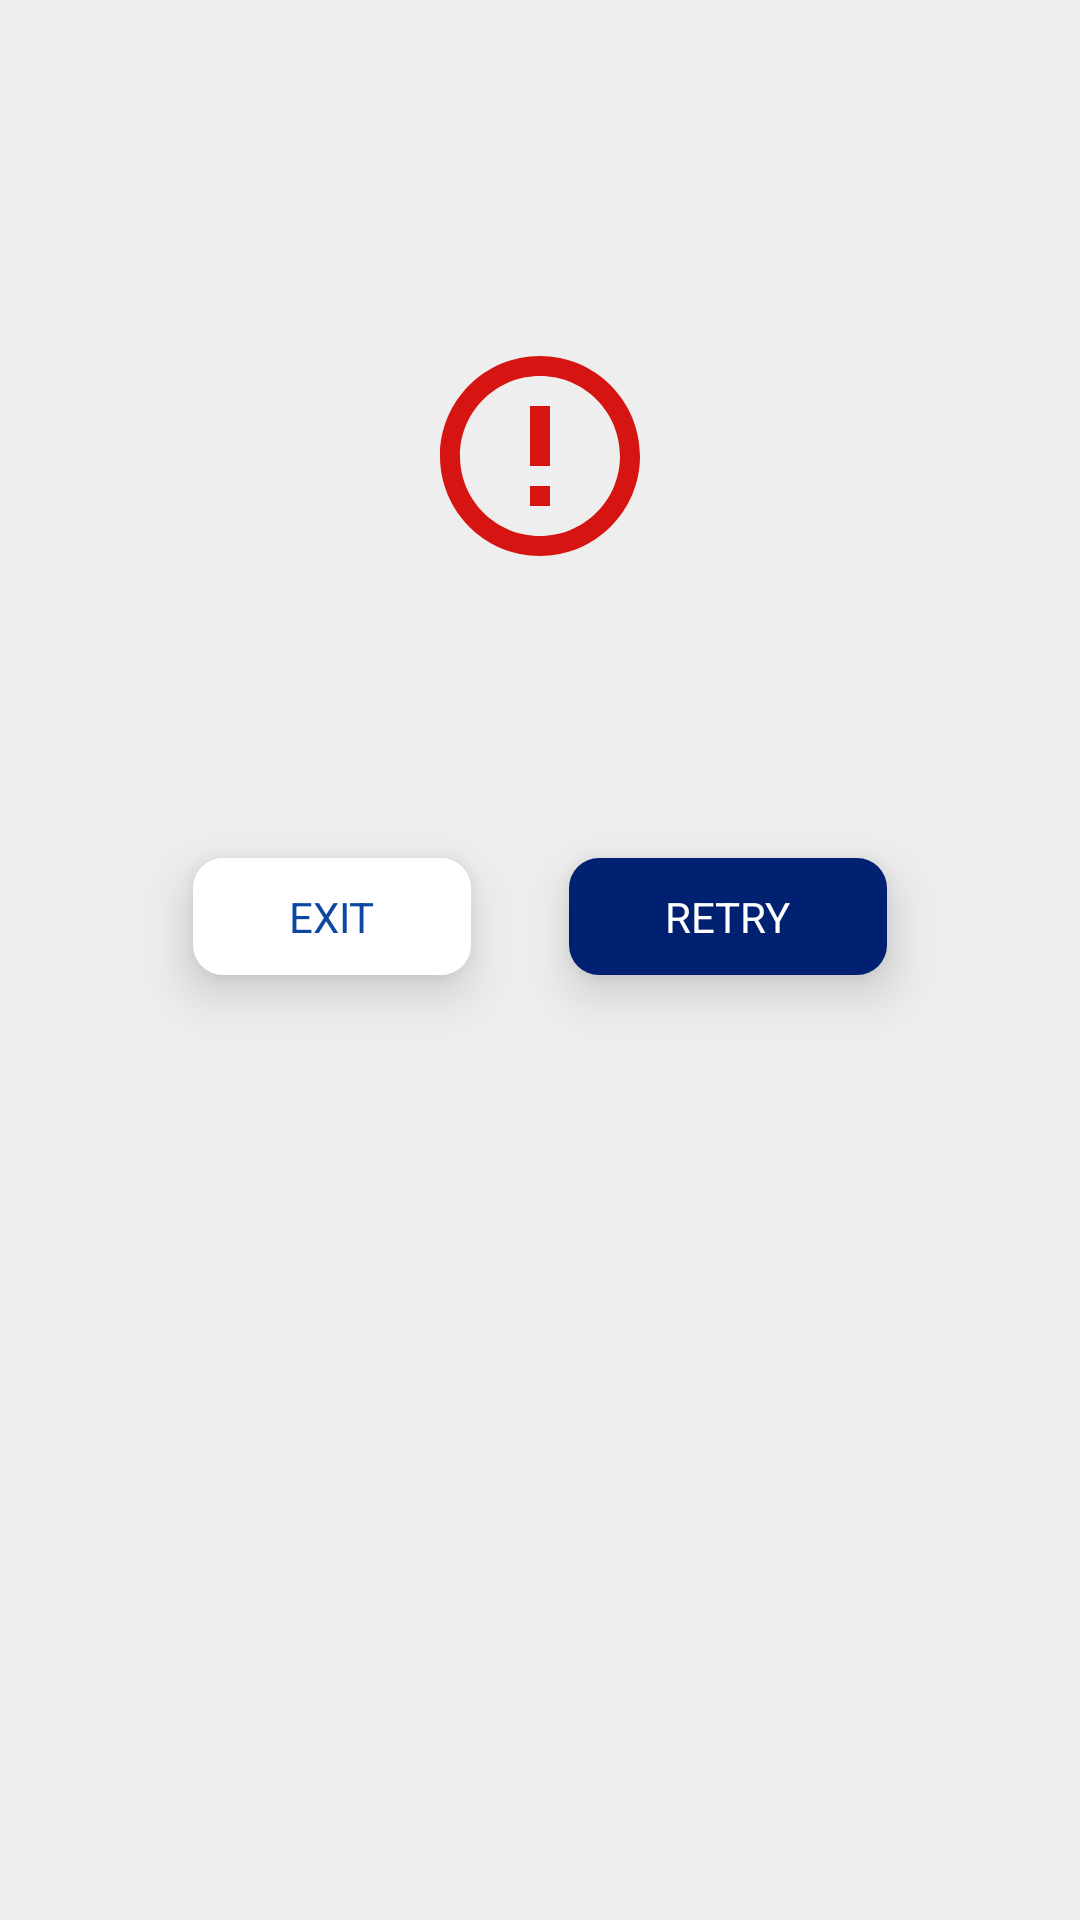

Icon click points for this 1080 × 1920 phone screenshot, format (x,y):
error: (540,456)
